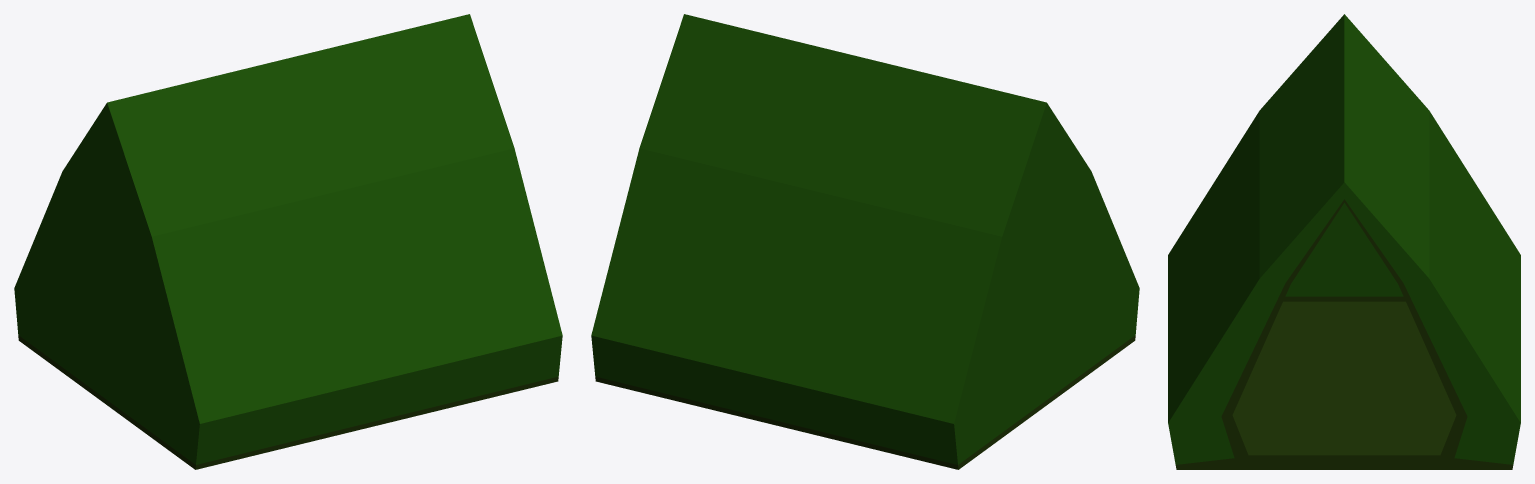
Rendered from Tent.fbx.
3 views of the same model, side by side, from view 1: azimuth 30°, elevation 25°; view 2: azimuth 150°, elevation 25°; view 3: azimuth 270°, elevation 25° (orthographic). The views are drawn at different scales.
Parts seen in each view (by area): view 1: Cube.003; view 2: Cube.003; view 3: Cube.003.
Part boxes in pixels (x1=…): Cube.003: x1=14, y1=14, x2=562, y2=469; Cube.003: x1=591, y1=14, x2=1139, y2=469; Cube.003: x1=1168, y1=14, x2=1520, y2=469.
Bounding box in the file's own units: 684 × 546 × 606.
